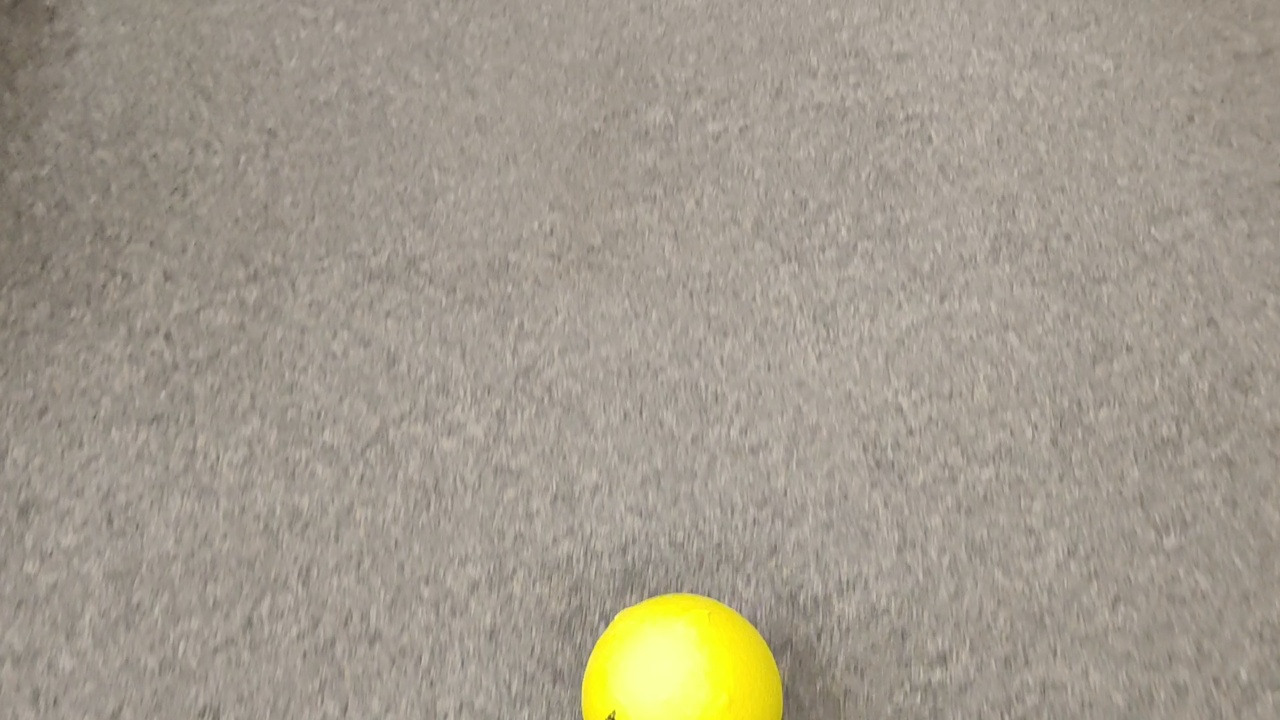Ball: (580, 593, 785, 720)
